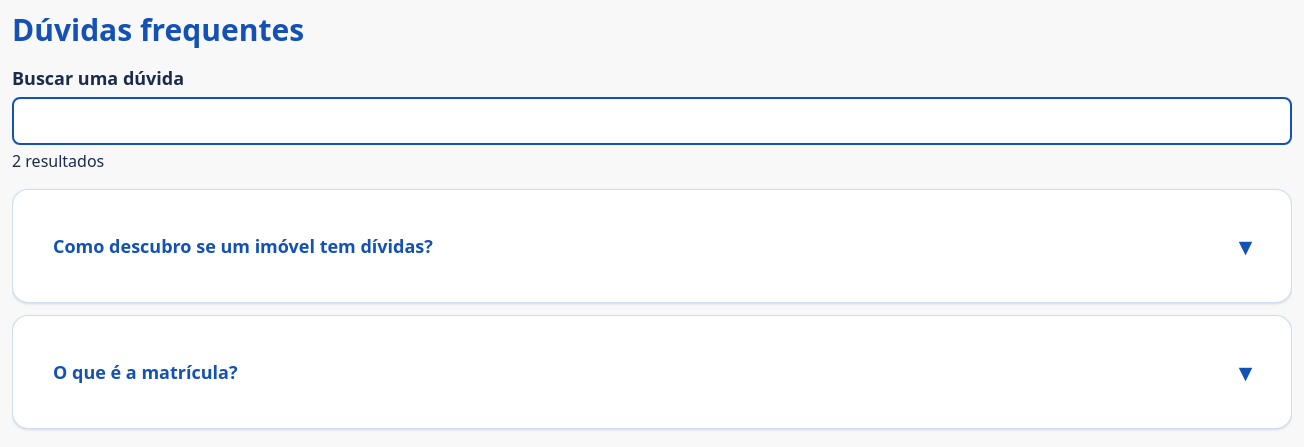
Faq (4 estados de tela) › busca filtra e anuncia a quantidade; sem resultado oferece limpar
Expected: the button "O que é a matrícula? ▾" is shown, [37,340,1267,404]
Type "matrícula" into the search field labelled "Buscar uma dúvida" at (652, 121), box [12,97,1292,145]
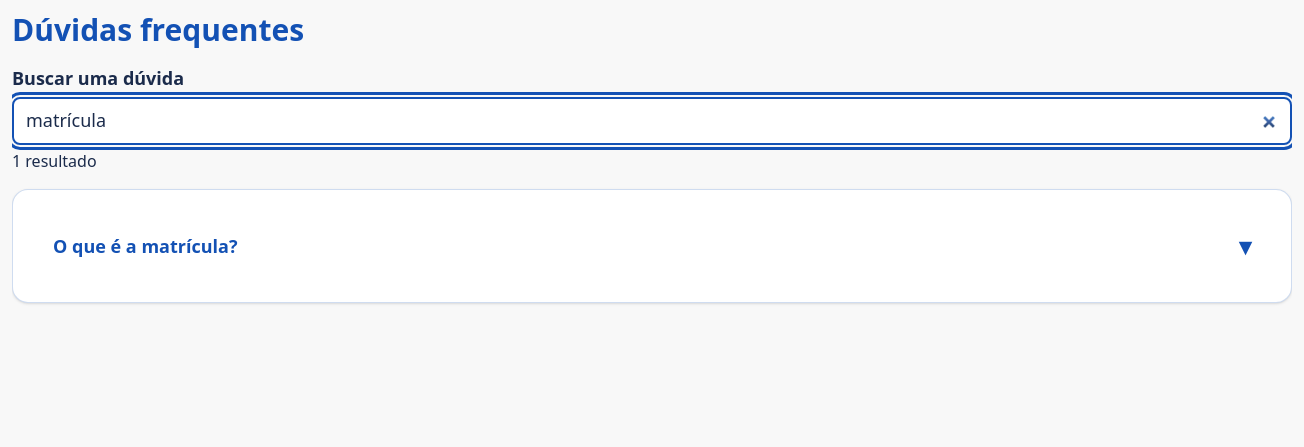
Expected: the text "1 resultado" is shown, [12,150,97,172]
Replace the text in the search field labelled "Buscar uma dúvida" with "zzzz" at (652, 121), box [12,97,1292,145]
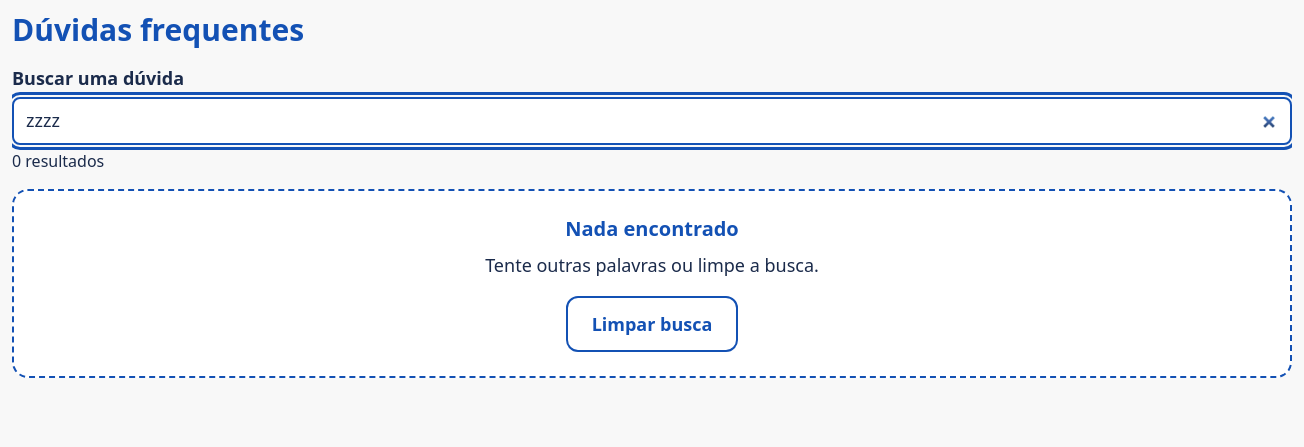
Expected: the heading "Nada encontrado" is shown, [565,215,739,242]
Click the button "Limpar busca" at (652, 324), box [566,296,738,352]
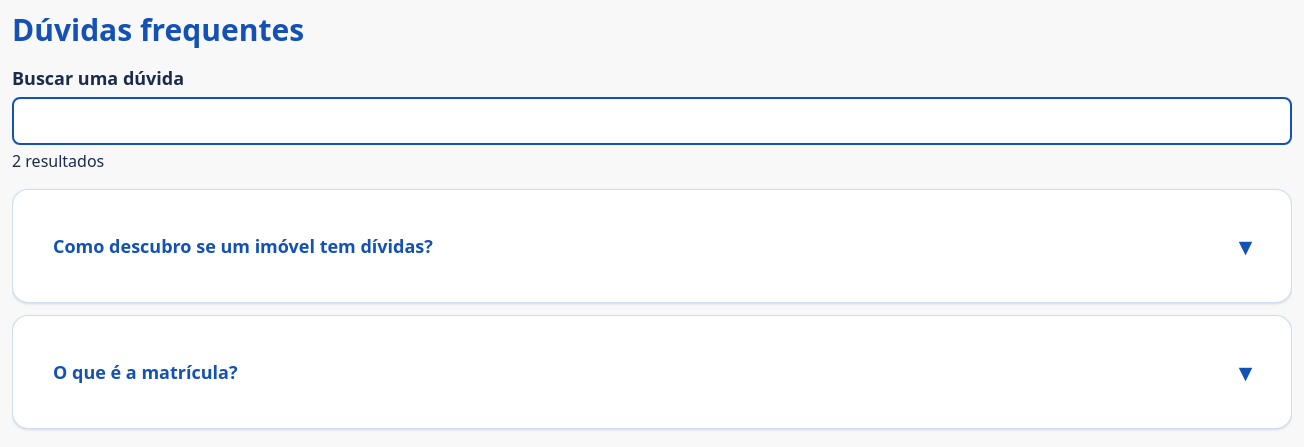
Expected: the text "2 resultados" is shown, [12,150,104,172]
